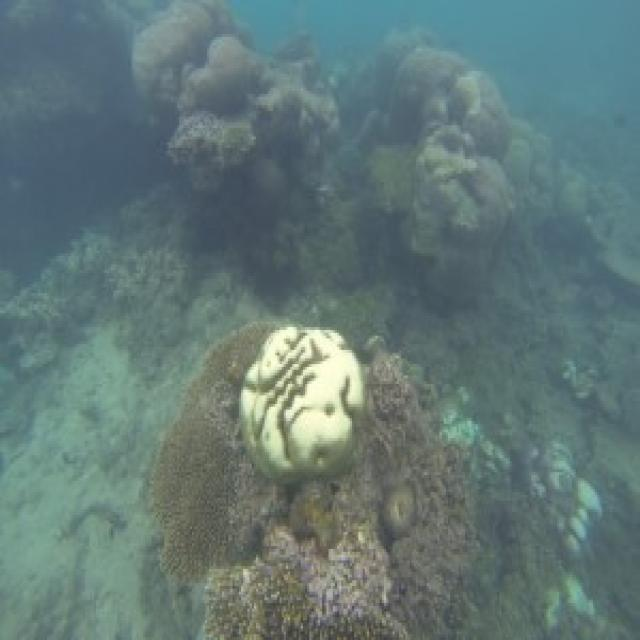Bleached: (242, 328, 366, 476)
Healthy: (206, 359, 472, 638), (152, 325, 274, 578), (206, 527, 398, 638), (159, 402, 229, 576), (197, 328, 266, 408)
